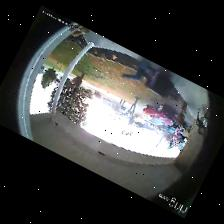person: (121, 60, 154, 84)
